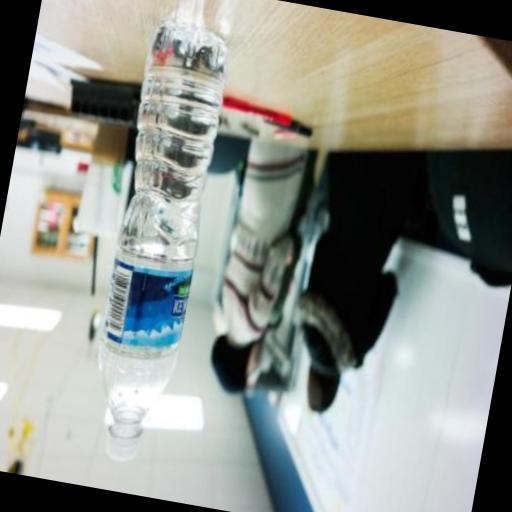Coca: (74, 9, 240, 476)
